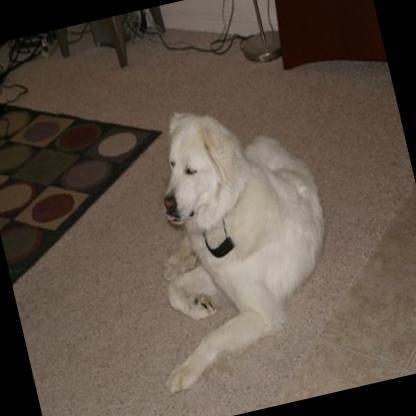Great_Pyrenees: (101, 83, 354, 396)
